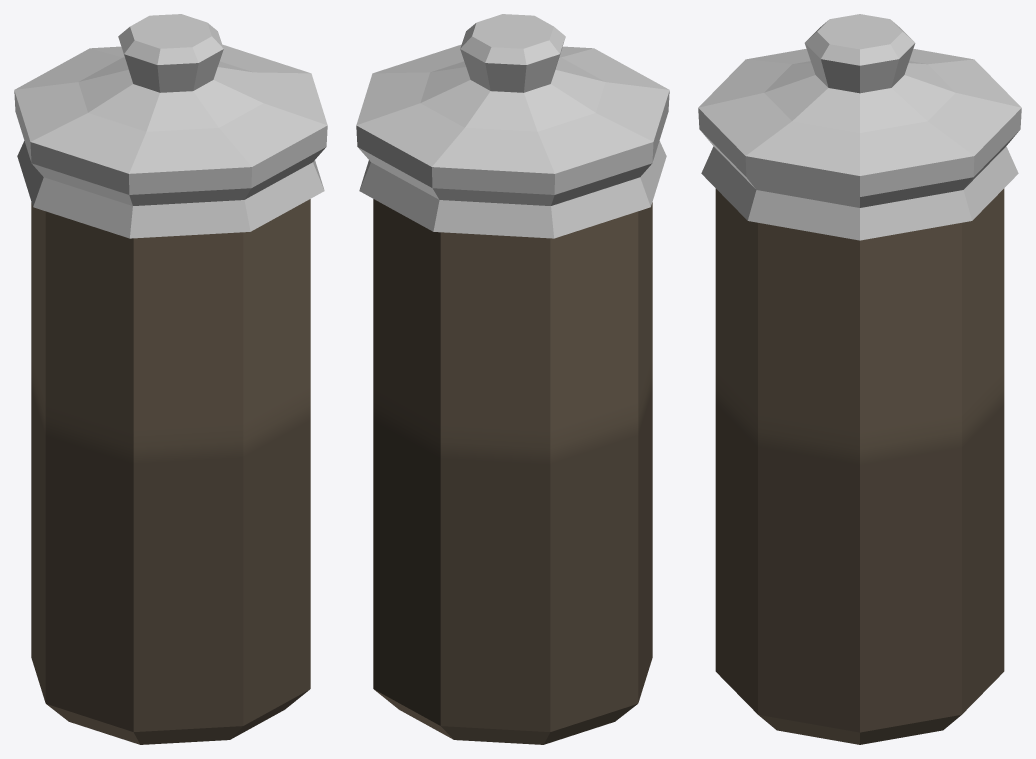
The model's file is SM_Prop_Organ_Jar_01.fbx.
The picture shows the model from 3 angles, left to right: view 1: azimuth 30°, elevation 25°; view 2: azimuth 150°, elevation 25°; view 3: azimuth 270°, elevation 25°; orthographic projection.
Visible parts, largest first — view 1: SM_Prop_Organ_Jar_01; view 2: SM_Prop_Organ_Jar_01; view 3: SM_Prop_Organ_Jar_01.
Part boxes in pixels (x1,y1,x2,y2): SM_Prop_Organ_Jar_01: [14, 14, 327, 744]; SM_Prop_Organ_Jar_01: [356, 14, 669, 744]; SM_Prop_Organ_Jar_01: [698, 14, 1021, 744].
Bounding box in the file's own units: 22.03 × 49.85 × 22.03.
